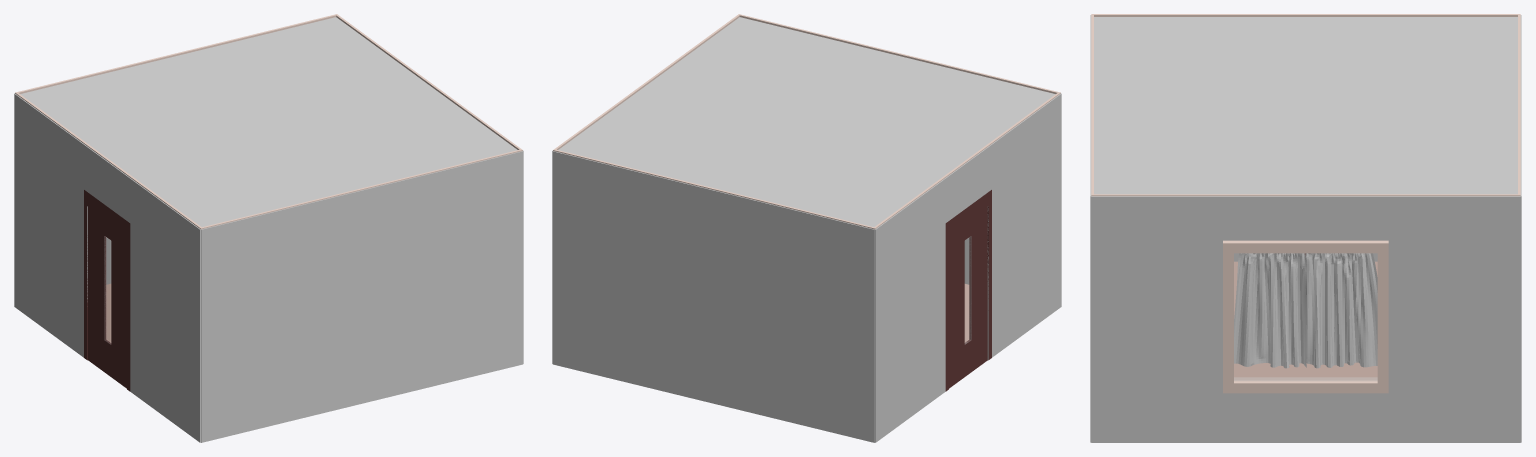
The model's file is Room_Girl.fbx.
3 renders of one model, left to right at view 1: azimuth 30°, elevation 25°; view 2: azimuth 150°, elevation 25°; view 3: azimuth 270°, elevation 25°, orthographic. The views are drawn at different scales.
Parts seen in each view (by area): view 1: wall_east, ceiling, wall_south, door, wall_band; view 2: wall_west, ceiling, wall_south, door, wall_band; view 3: wall_north, ceiling, window, katen, window_frame, wall_band, floor, wall_west, wall_east.
Boxes of the visible parts, left/top/right/bottom form: wall_east: left=201, top=151, right=523, bottom=442; ceiling: left=20, top=17, right=517, bottom=226; wall_south: left=14, top=93, right=200, bottom=442; door: left=84, top=190, right=130, bottom=391; wall_band: left=15, top=14, right=522, bottom=229; wall_west: left=552, top=151, right=874, bottom=442; ceiling: left=558, top=17, right=1055, bottom=226; wall_south: left=875, top=93, right=1061, bottom=442; door: left=945, top=190, right=991, bottom=391; wall_band: left=553, top=14, right=1060, bottom=229; wall_north: left=1091, top=196, right=1520, bottom=442; ceiling: left=1094, top=17, right=1517, bottom=194; window: left=1234, top=253, right=1377, bottom=380; katen: left=1234, top=253, right=1377, bottom=368; window_frame: left=1223, top=240, right=1388, bottom=393; wall_band: left=1091, top=14, right=1520, bottom=196; floor: left=1234, top=261, right=1377, bottom=377; wall_west: left=1520, top=15, right=1521, bottom=442; wall_east: left=1090, top=15, right=1091, bottom=442.
Size of the model in its own units: 4019 by 4076 by 2544.
